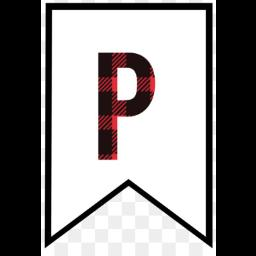p: (90, 43, 164, 165)
